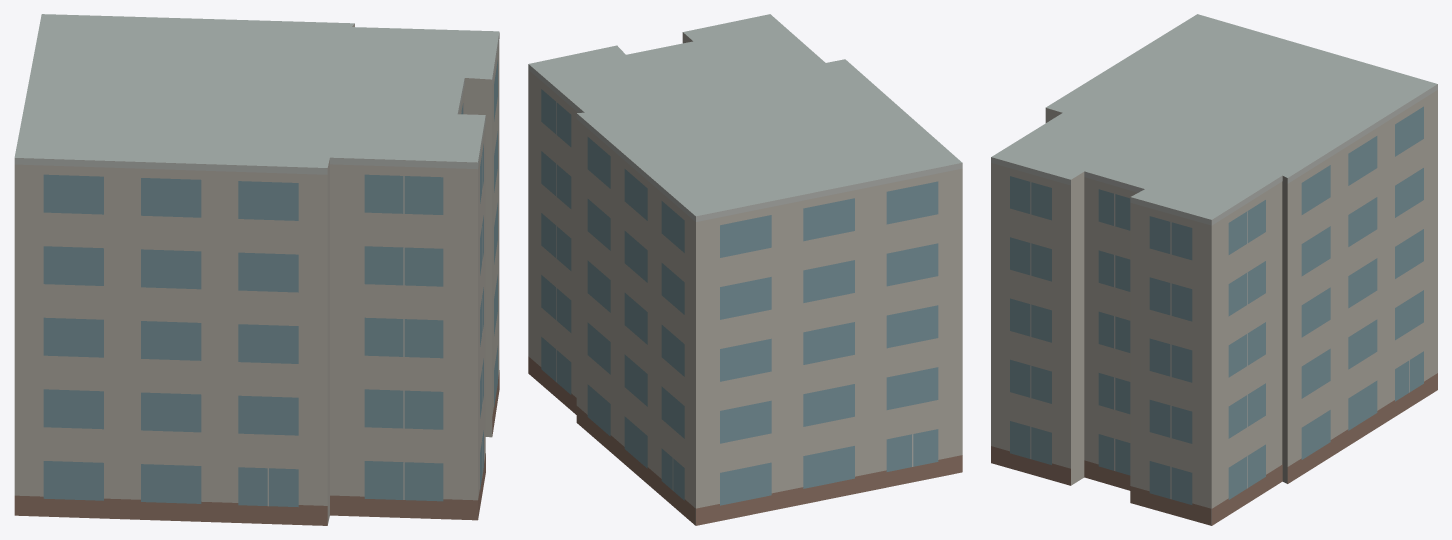
Rendered from survey-upis-32891582.glb.
3 views of the same model, side by side, from view 1: azimuth 30°, elevation 25°; view 2: azimuth 150°, elevation 25°; view 3: azimuth 270°, elevation 25° (orthographic). The views are drawn at different scales.
Parts seen in each view (by area): view 1: survey-upis-32891582.tmp; view 2: survey-upis-32891582.tmp; view 3: survey-upis-32891582.tmp.
Boxes of the visible parts, left/top/right/bottom form: survey-upis-32891582.tmp: left=14, top=14, right=499, bottom=525; survey-upis-32891582.tmp: left=528, top=14, right=962, bottom=525; survey-upis-32891582.tmp: left=991, top=14, right=1437, bottom=525.
Size of the model in its own units: 18.77 by 13 by 17.21.
